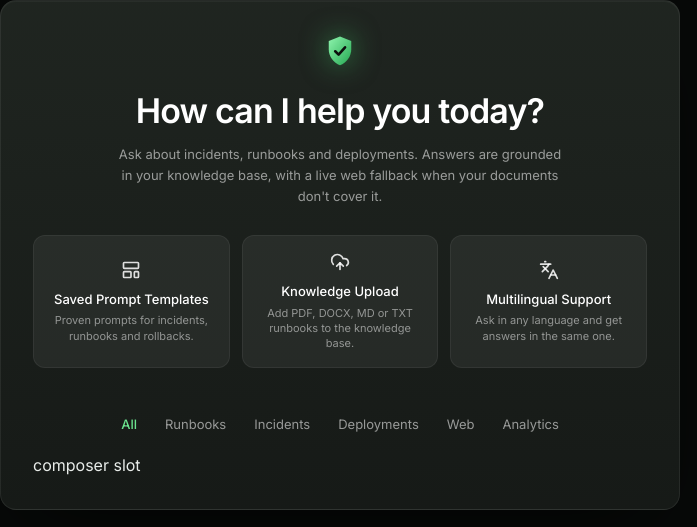
Test: Welcome › analytics tab shows live stats
This screenshot has width=697, height=527.
Click the tab "Analytics" at (531, 425), box [490,409,571,441]
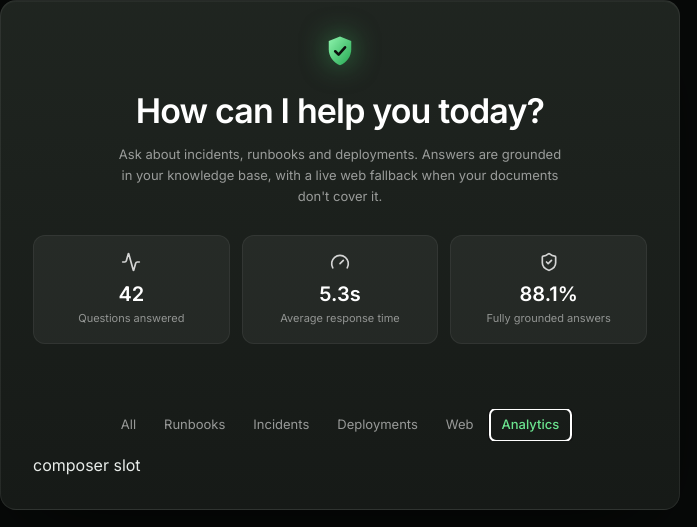
expect the text "42" is shown: met, box [118,282,144,306]
expect the text "5.3s" is shown: met, box [319,282,361,306]
expect the text "88.1%" is shown: met, box [520,282,578,306]
